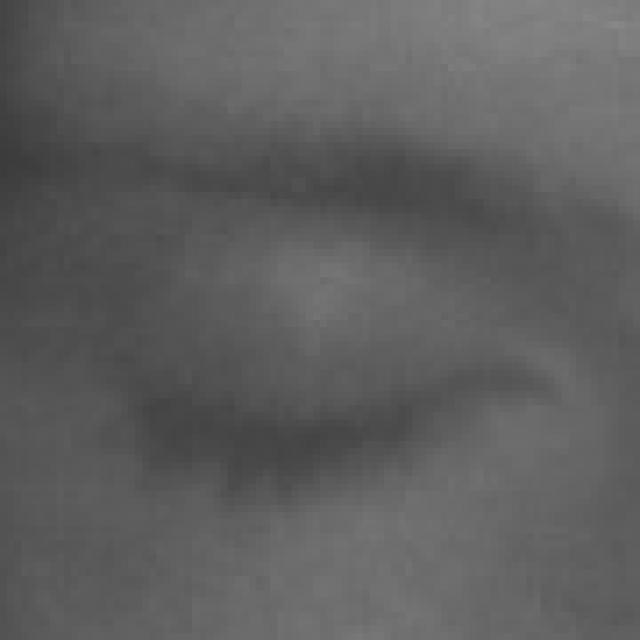Eyeclosed: (170, 234, 506, 601)
